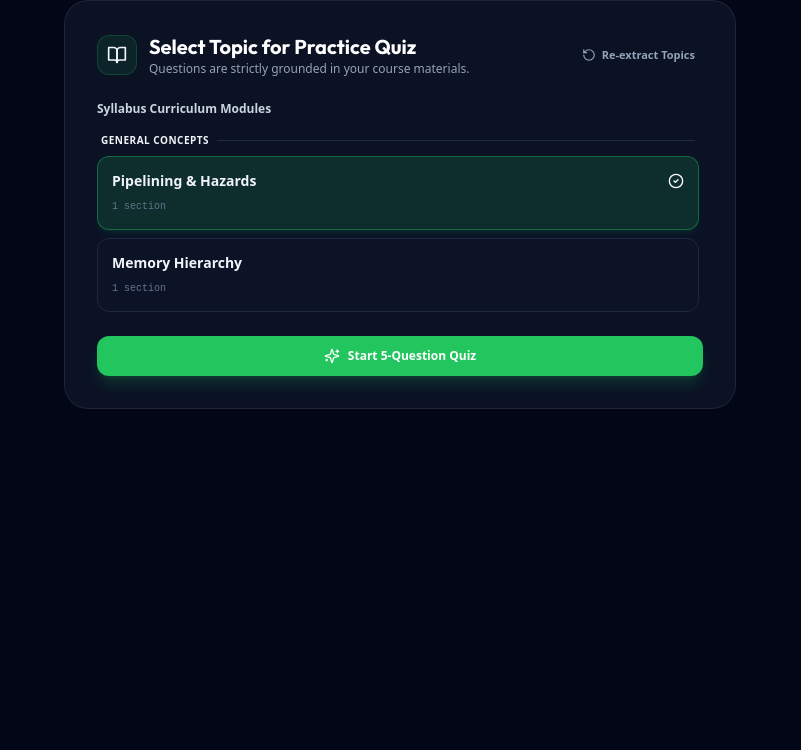
Test: Quiz and Progress Views › QuizView Component › starts quiz, renders question without persona banter, and submits answer
The image size is (801, 750).
Expected: the text "Start 5-Question Quiz" is shown, [348,348,476,364]
Start quiz
Step 1. Click the button "Start 5-Question Quiz" → coordinates (400, 356), box [97,336,703,376]
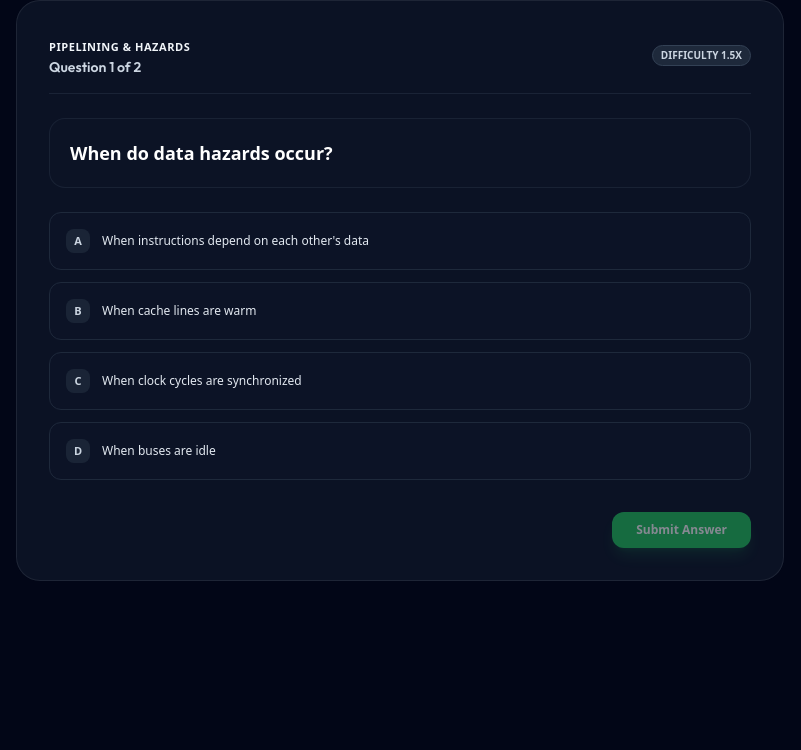
Now the heading "Question 1 of 2" is shown, box [49,58,141,76]
Now the text "When do data hazards occur?" is shown, box [70,141,333,165]
Now the text "When instructions depend on each other's data" is shown
Select option
Step 2. Click the text "When instructions depend on each other's data" → coordinates (236, 241), box [102,233,369,249]
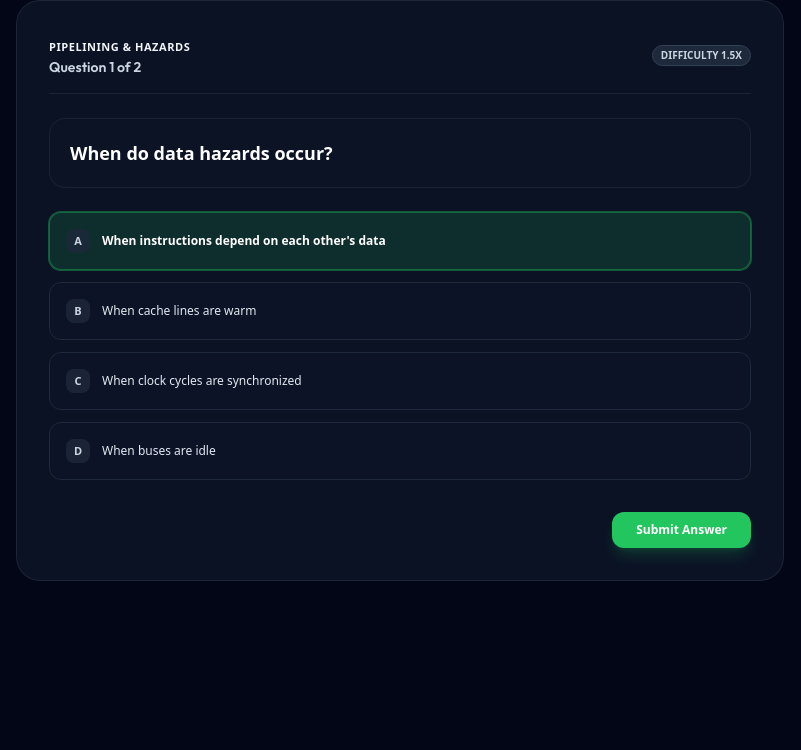
Step 3. Click the button "Submit Answer" → coordinates (682, 530), box [612,512,751,548]
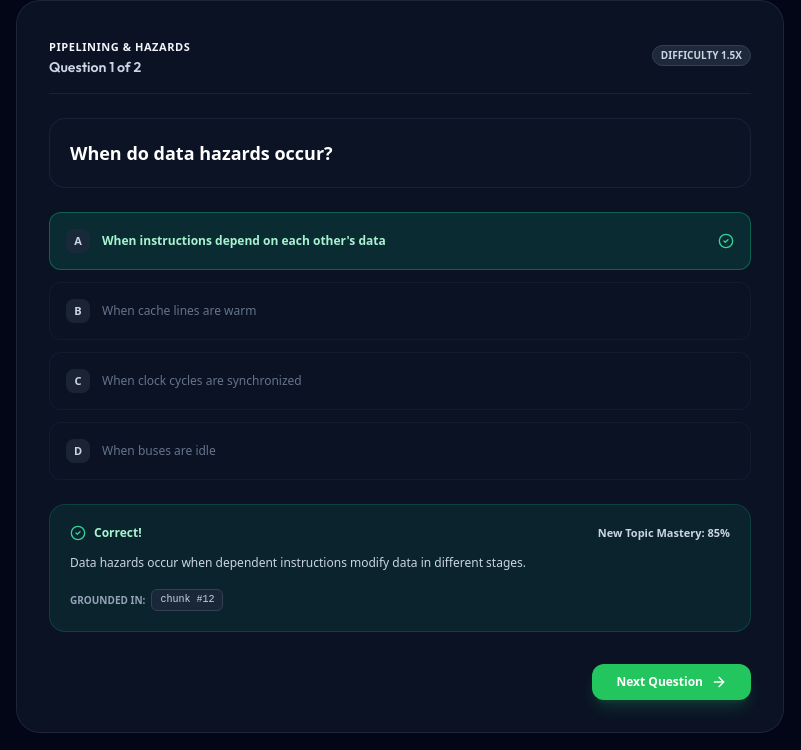
Now the text "Correct!" is shown, box [94,525,142,541]
Now the text "Data hazards occur when dependent instructions" is shown, box [70,554,526,571]
Now the text "New Topic Mastery: 85%" is shown, box [598,525,730,541]
